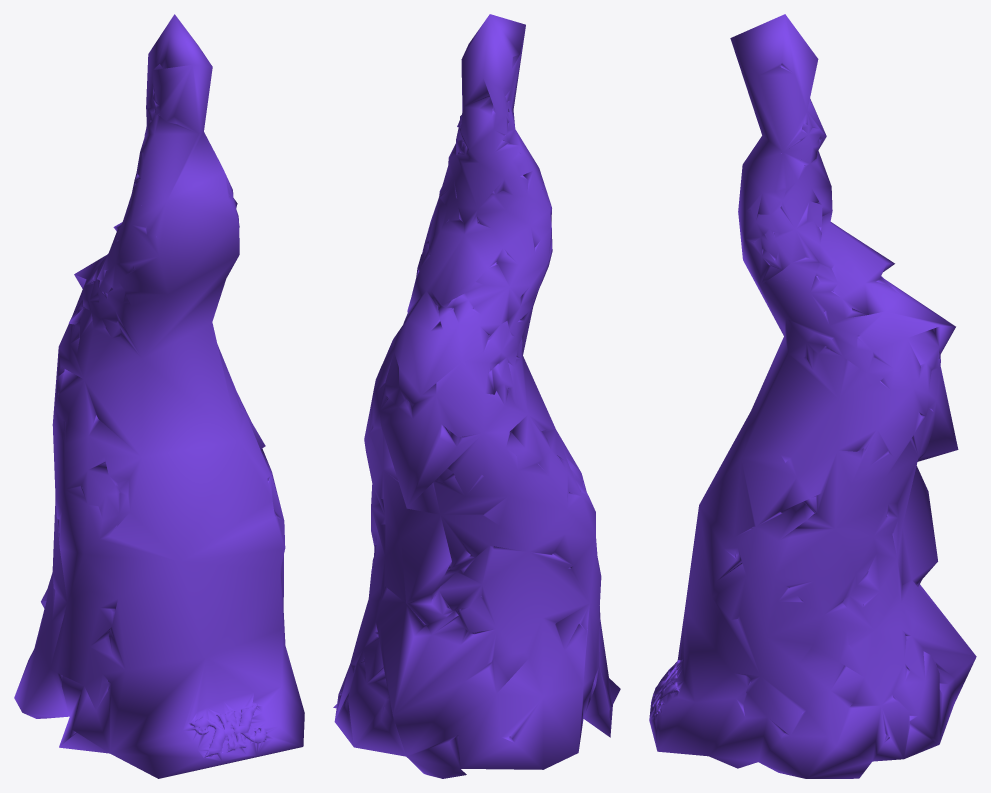
The model's file is small-suction-ar.glb.
3 renders of one model, left to right at view 1: azimuth 30°, elevation 25°; view 2: azimuth 150°, elevation 25°; view 3: azimuth 270°, elevation 25°, orthographic.
Size of the model in its own units: 0.1092 by 0.2983 by 0.125.
